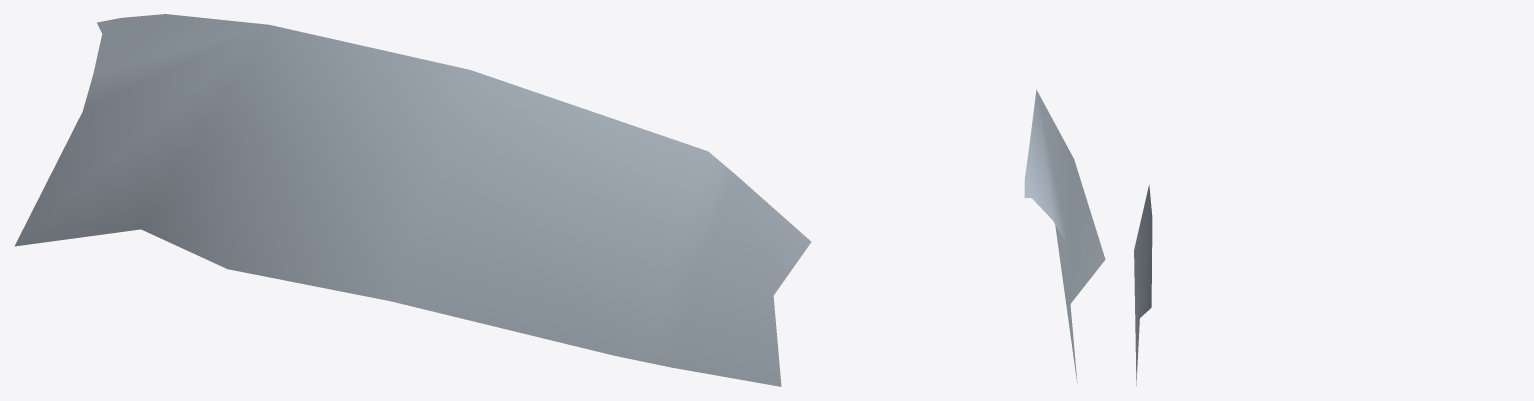
File: middle-glenohumeral-ligament-l.glb
3 views of the same model, side by side, from view 1: azimuth 30°, elevation 25°; view 2: azimuth 150°, elevation 25°; view 3: azimuth 270°, elevation 25° (orthographic). The views are drawn at different scales.
Parts seen in each view (by area): view 1: Middle glenohumeral ligament.l; view 2: Middle glenohumeral ligament.l; view 3: Middle glenohumeral ligament.l.
Boxes of the visible parts, left/top/right/bottom form: Middle glenohumeral ligament.l: left=14, top=14, right=811, bottom=386; Middle glenohumeral ligament.l: left=1024, top=89, right=1105, bottom=385; Middle glenohumeral ligament.l: left=1134, top=184, right=1152, bottom=385.
Bounding box in the file's own units: 0.0285 × 0.0165 × 0.0238.
